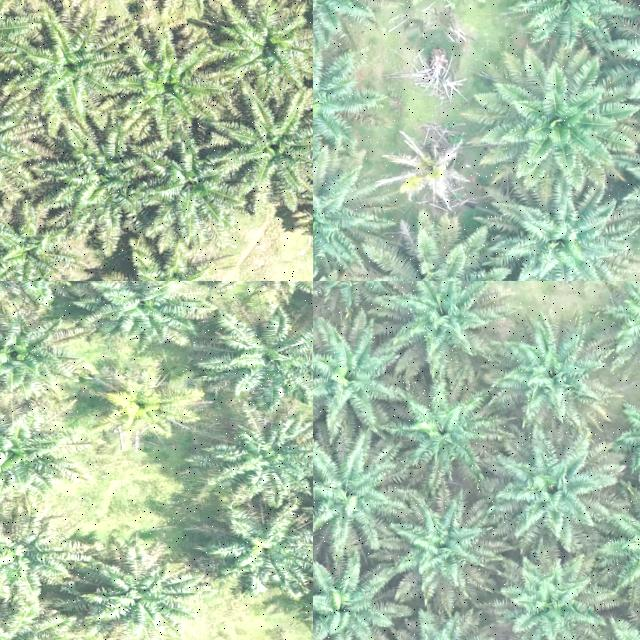Ganoderma: (104, 378, 176, 432), (401, 142, 462, 192)
